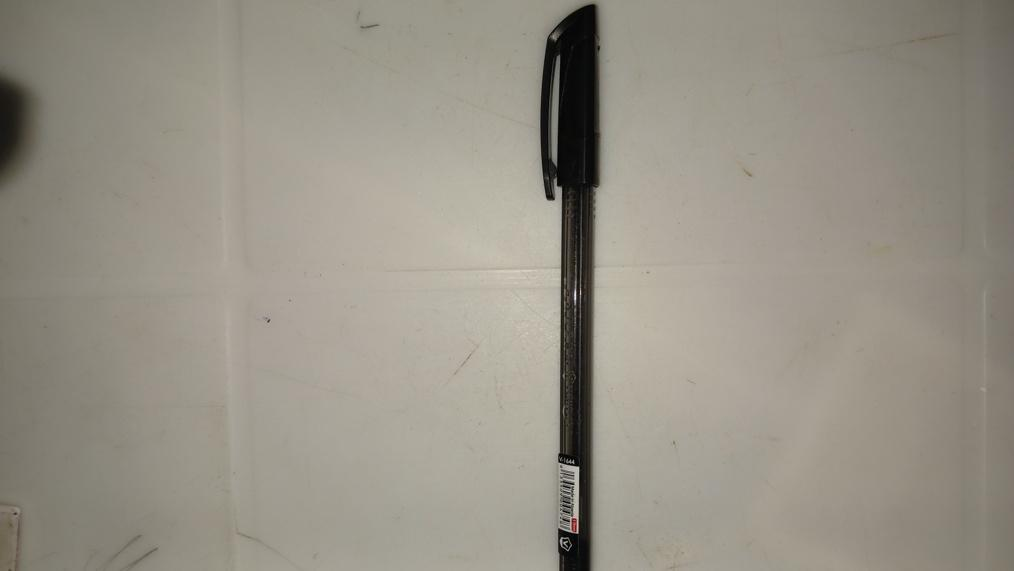pen: (539, 0, 604, 571)
